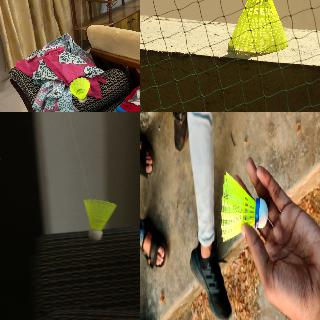shuttlecock: (221, 171, 267, 241), (228, 0, 288, 52), (82, 199, 116, 241), (69, 78, 89, 102)
